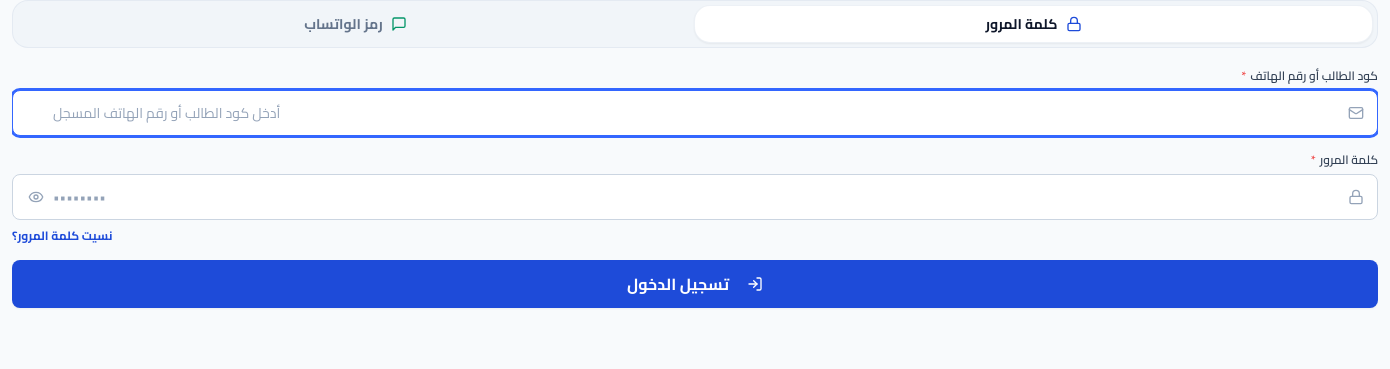
LoginForm Component › validates empty inputs and displays client-side validation errors
Click the button "تسجيل الدخول" at (695, 284), box [12,260,1378,308]
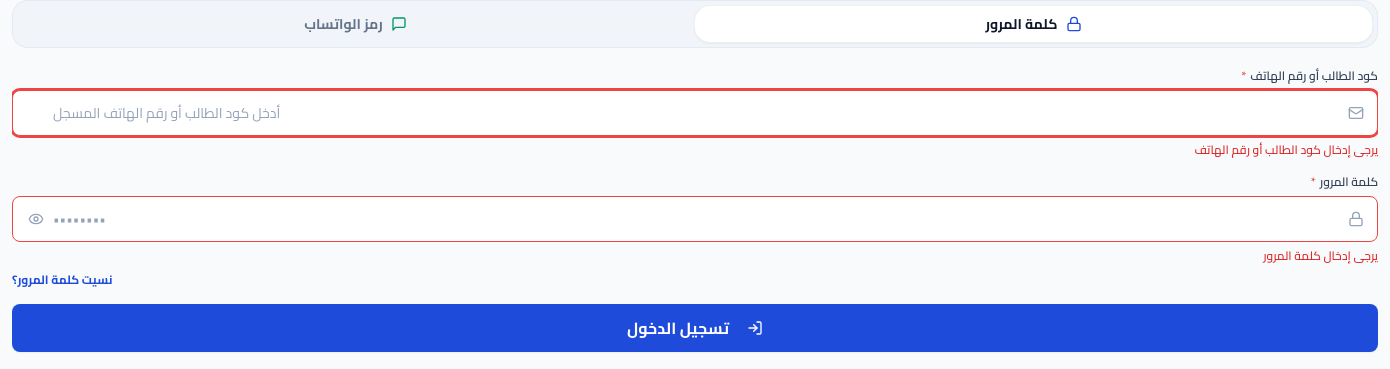
Expected: the text "يرجى إدخال كود الطالب أو رقم الهاتف" is shown, [1194,138,1378,161]
Expected: the text "يرجى إدخال كلمة المرور" is shown, [1263,244,1378,267]
